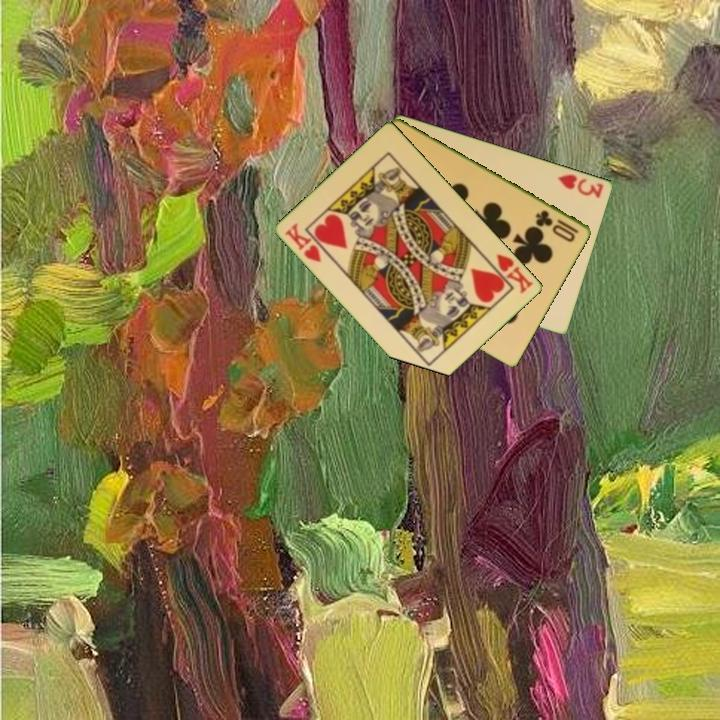10c: (532, 206, 582, 245)
3h: (554, 170, 607, 200)
Kh: (485, 250, 537, 296), (282, 219, 324, 265)
